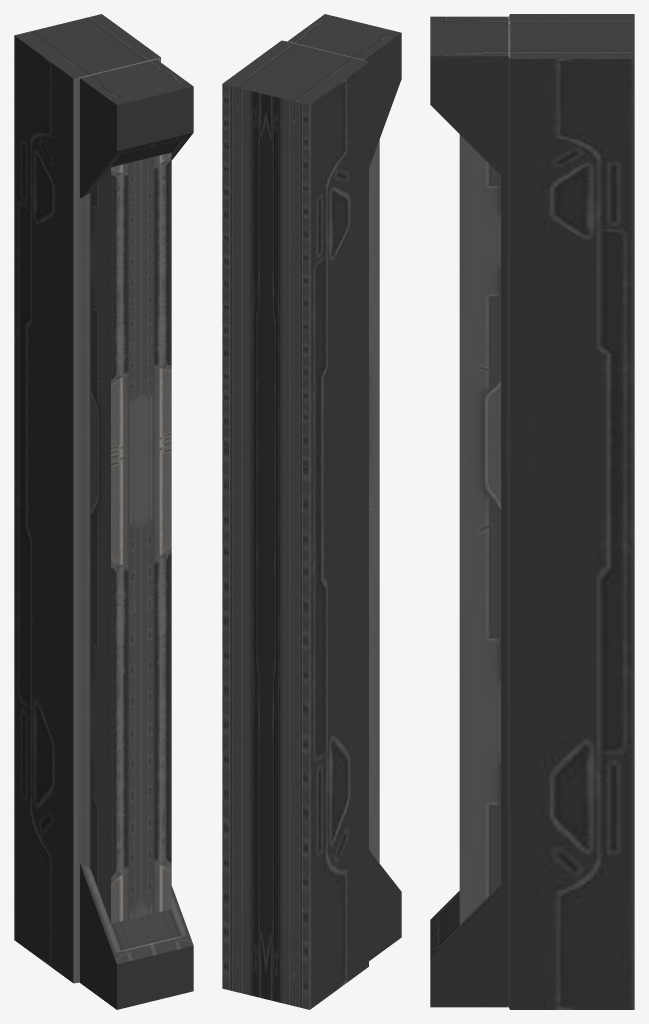
File: Column_Simple.gltf
The picture shows the model from 3 angles, left to right: view 1: azimuth 30°, elevation 25°; view 2: azimuth 150°, elevation 25°; view 3: azimuth 270°, elevation 25°; orthographic projection. The views are drawn at different scales.
Parts seen in each view (by area): view 1: Column_Simple; view 2: Column_Simple; view 3: Column_Simple.
Part boxes in pixels (x1=…): Column_Simple: x1=14, y1=14, x2=193, y2=1009; Column_Simple: x1=222, y1=14, x2=401, y2=1009; Column_Simple: x1=430, y1=14, x2=634, y2=1009.
Bounding box in the file's own units: 0.5068 × 5 × 0.9749.
2 materials, 2 textured.
